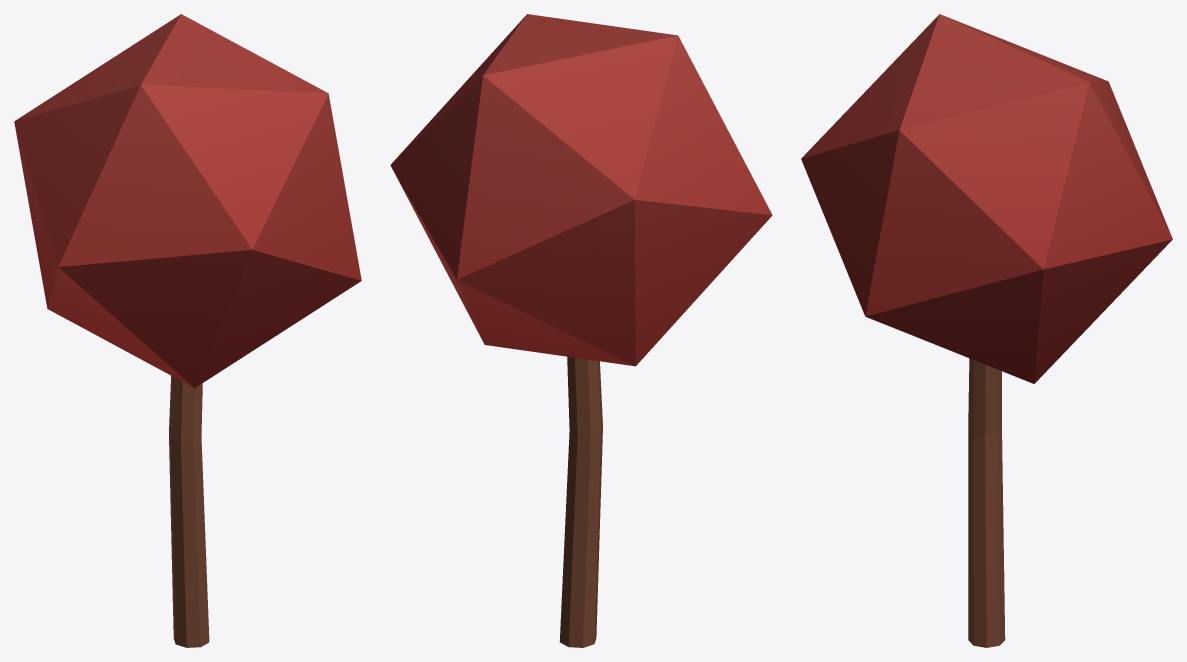
Rendered from Tree_40_gradient_red_vc.fbx.
3 views of the same model, side by side, from view 1: azimuth 30°, elevation 25°; view 2: azimuth 150°, elevation 25°; view 3: azimuth 270°, elevation 25° (orthographic). The views are drawn at different scales.
Parts seen in each view (by area): view 1: Tree_40_gradient_red_vc; view 2: Tree_40_gradient_red_vc; view 3: Tree_40_gradient_red_vc.
Part boxes in pixels (x1,y1,x2,y2): Tree_40_gradient_red_vc: [14, 14, 361, 647]; Tree_40_gradient_red_vc: [390, 14, 772, 647]; Tree_40_gradient_red_vc: [801, 14, 1172, 647].
Size of the model in its own units: 110 by 196 by 112.
